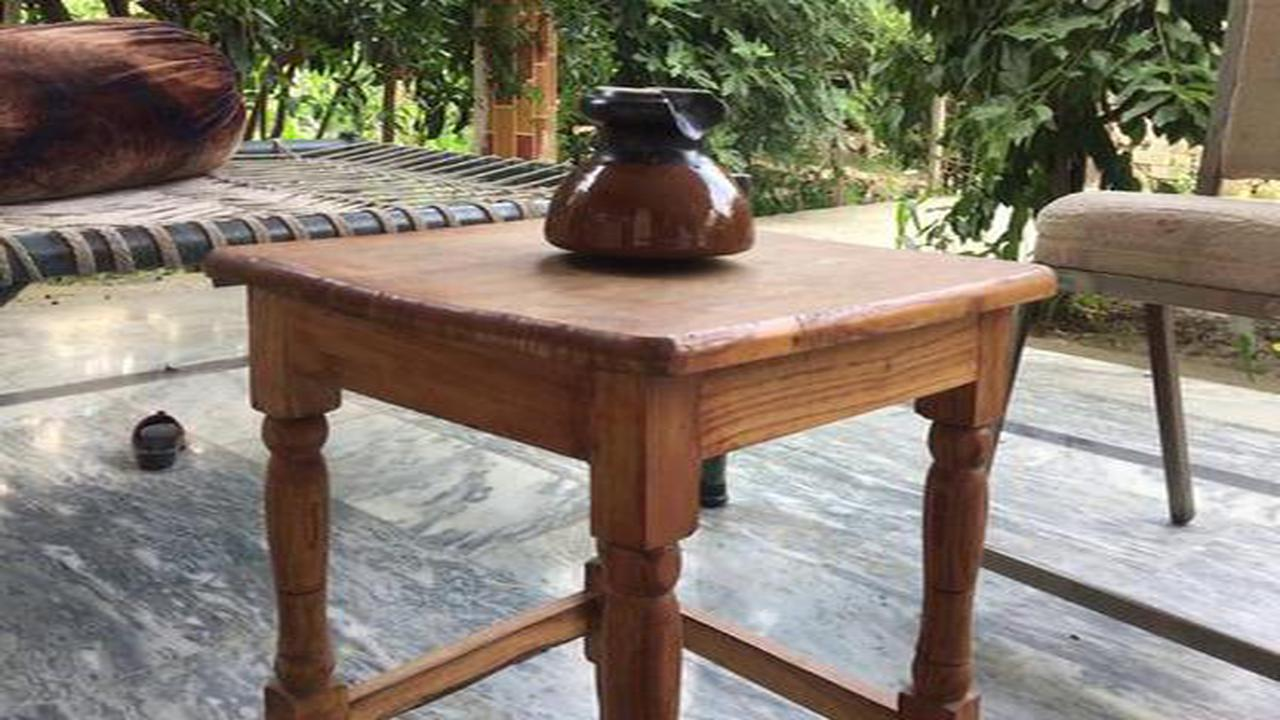insulator_pin: (530, 69, 776, 276)
